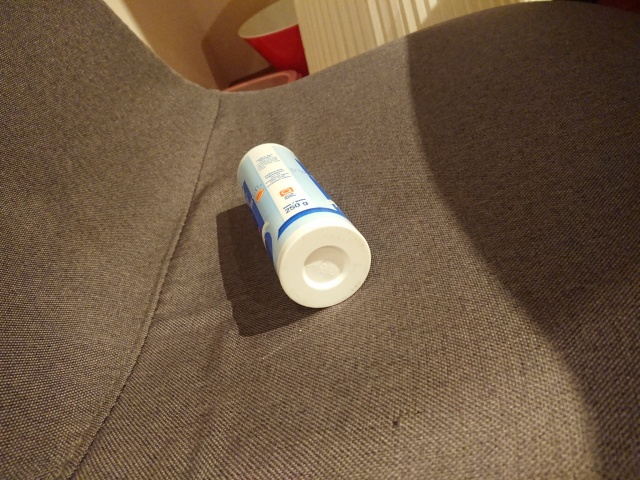Solana Pag Fine Sea Salt 250g: (234, 140, 374, 310)
